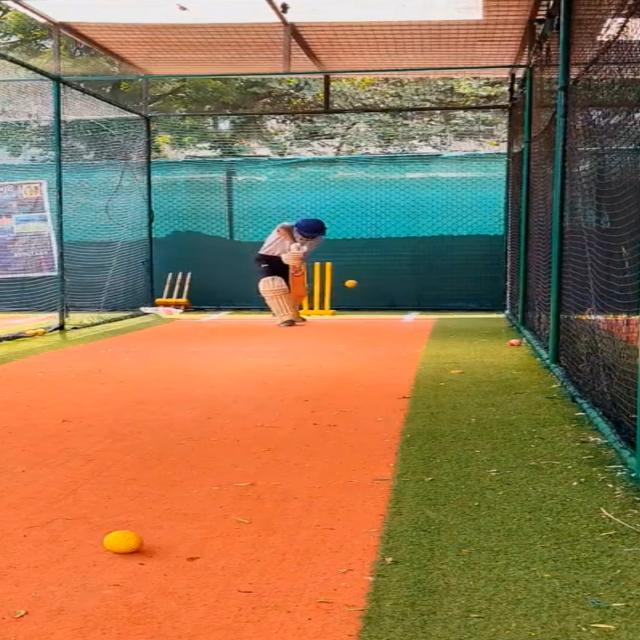ball: (341, 278, 361, 288)
stump: (300, 260, 336, 317)
